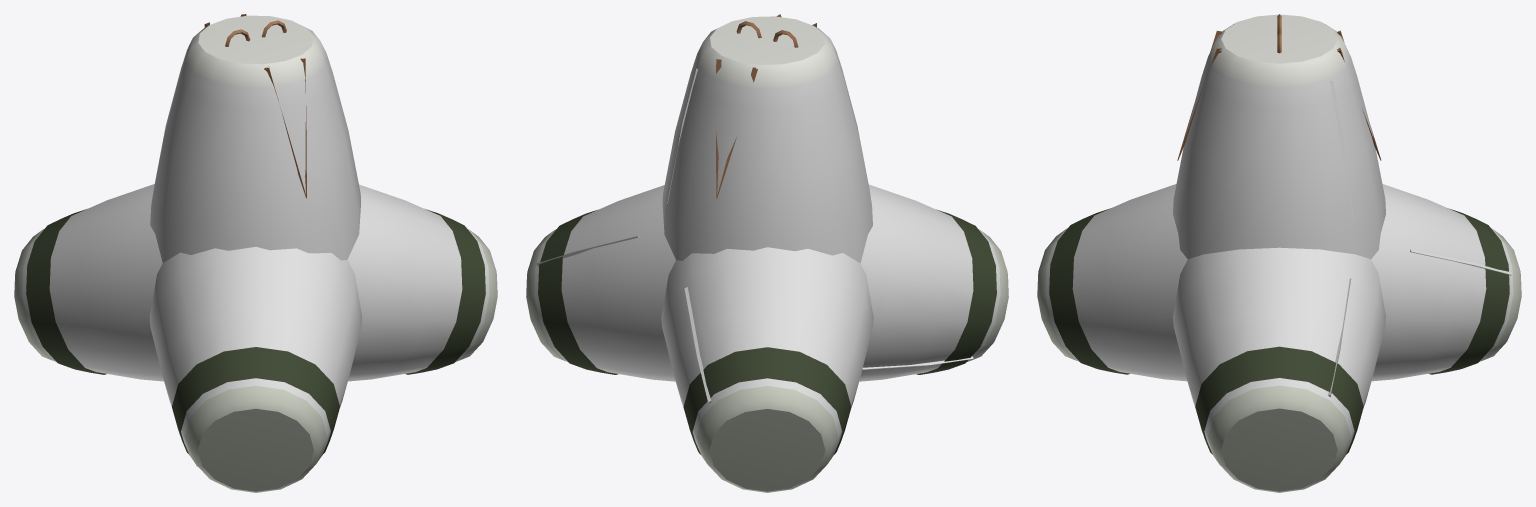
File: tetrapod.glb
3 renders of one model, left to right at view 1: azimuth 30°, elevation 25°; view 2: azimuth 150°, elevation 25°; view 3: azimuth 270°, elevation 25°, orthographic.
Visible parts, largest first — view 1: tetrapod_body; view 2: tetrapod_body; view 3: tetrapod_body.
Part boxes in pixels (x1,y1,x2,y2): tetrapod_body: (14, 14, 497, 492); tetrapod_body: (526, 14, 1008, 492); tetrapod_body: (1037, 14, 1521, 492).
Size of what is drawn, in the model's own units: 2.47 by 2.37 by 2.75.
